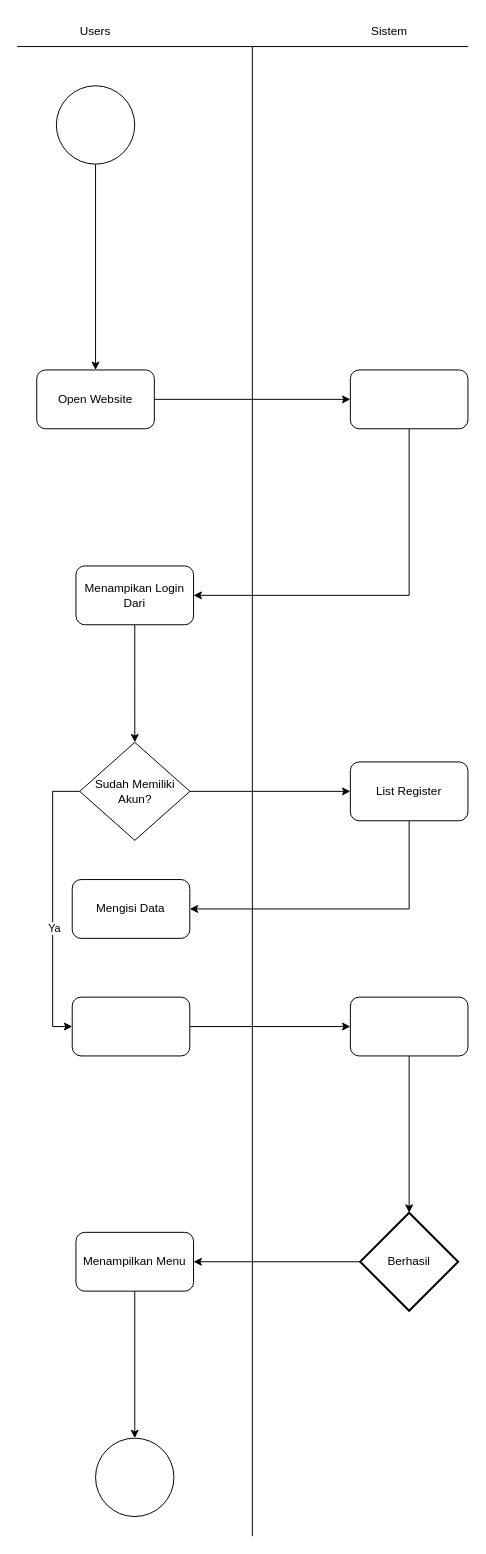
This 486x1554 diagram has some shape labels left out. Here are the shapes that lost their labels. From the top down, the box of each, then its label:
(349, 369, 468, 429): Login View
(71, 996, 190, 1056): Masukkan Email & Password
(349, 996, 468, 1056): Check Email & Password
